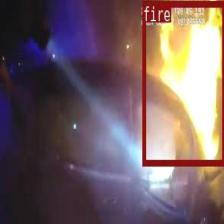fire: (142, 0, 224, 165)
